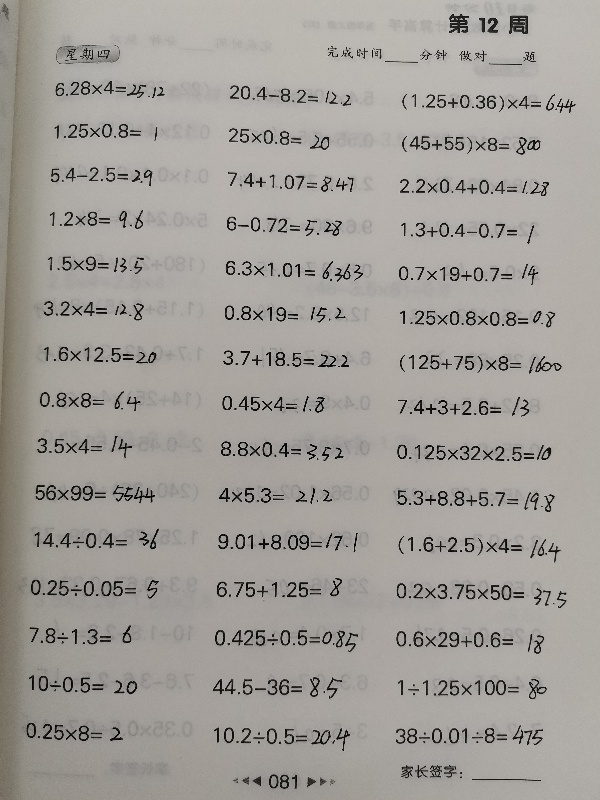equation: (398, 86, 584, 119), (392, 578, 570, 607), (394, 532, 564, 561), (394, 675, 551, 704), (210, 623, 361, 653), (393, 485, 558, 512), (391, 627, 549, 655), (210, 724, 353, 754), (395, 351, 565, 376), (391, 721, 546, 748), (395, 261, 542, 289), (210, 673, 346, 703), (396, 305, 559, 330), (221, 257, 366, 285), (393, 441, 555, 466), (215, 529, 362, 556), (397, 132, 544, 158), (394, 394, 533, 421), (397, 217, 537, 243), (212, 575, 345, 602), (396, 175, 552, 198), (31, 526, 163, 553), (26, 576, 162, 602), (216, 438, 347, 463), (224, 170, 357, 194), (31, 480, 158, 505), (219, 348, 352, 371), (34, 429, 135, 459), (220, 302, 349, 325), (225, 84, 354, 107), (222, 214, 345, 238), (35, 386, 144, 413), (40, 342, 159, 366), (26, 622, 135, 648), (46, 162, 155, 188), (51, 77, 168, 101), (40, 297, 147, 323), (25, 673, 140, 697), (215, 484, 335, 507), (46, 207, 148, 234), (217, 392, 328, 416), (50, 119, 161, 143), (225, 126, 334, 150), (22, 720, 126, 744), (44, 253, 147, 277)
